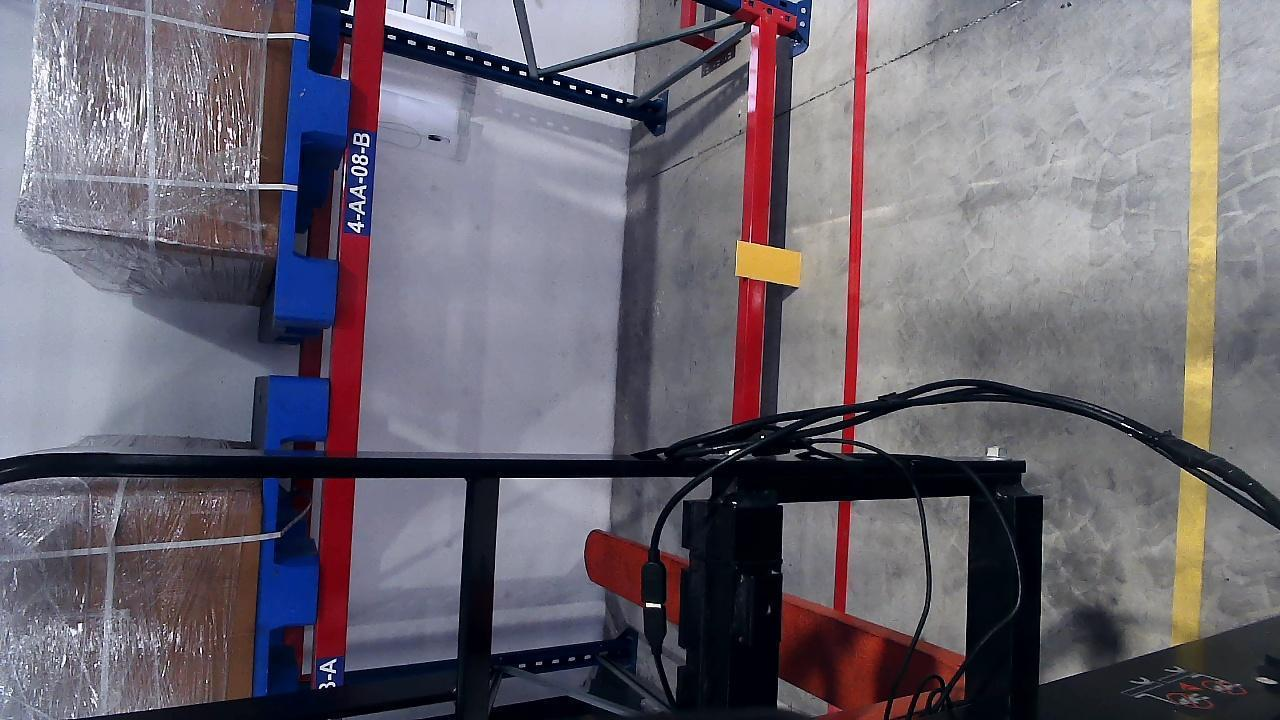red_line: (842, 3, 868, 406)
yellow_line: (1180, 7, 1221, 630)
